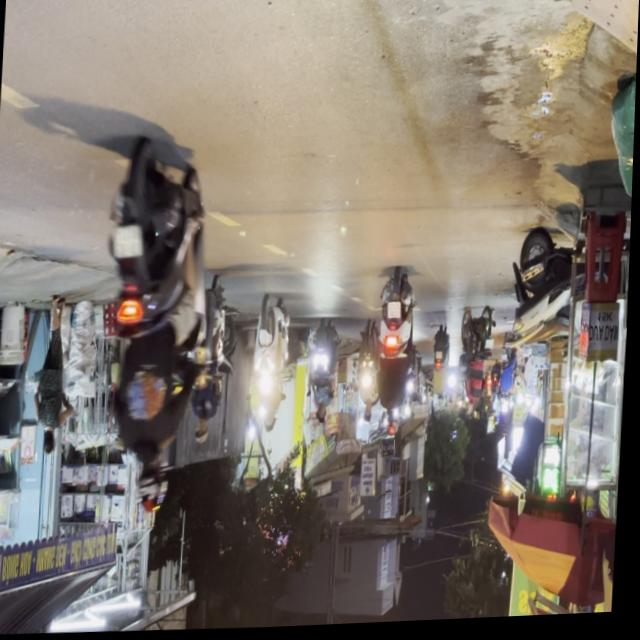helmet: (136, 457, 170, 517), (387, 415, 402, 442)
licenseplate: (94, 140, 216, 522), (373, 272, 421, 444)
nohelmet: (112, 227, 144, 261), (389, 306, 403, 324)
